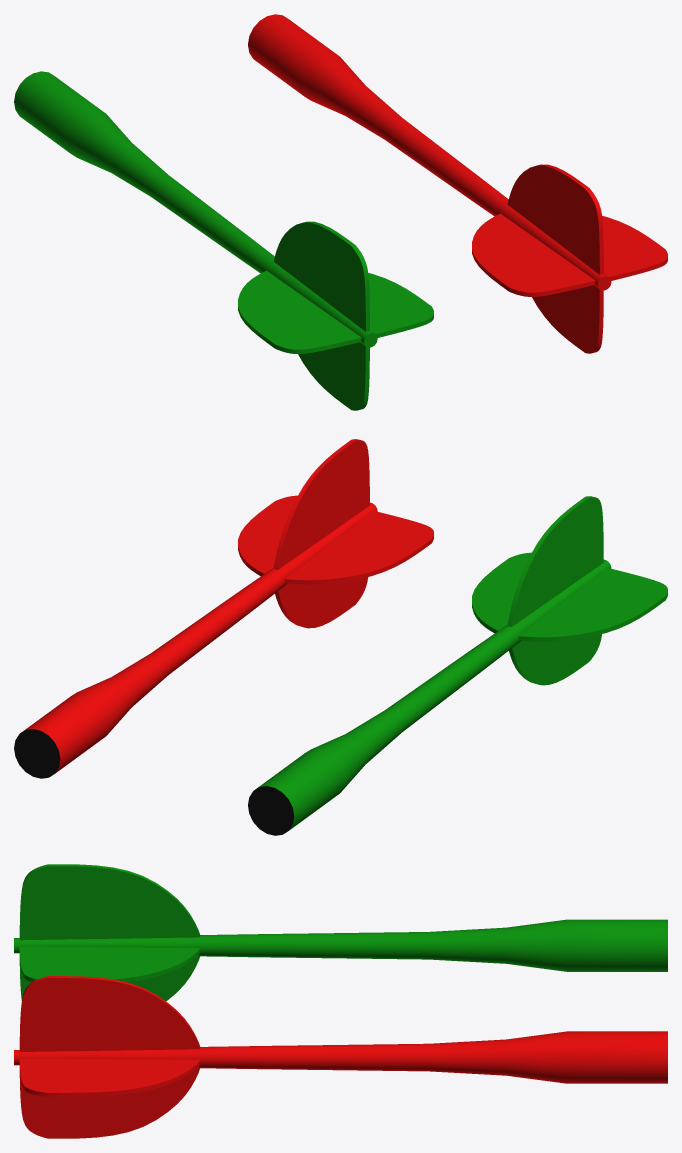
Rendered from Darts.FBX.
3 renders of one model, top to bottom at view 1: azimuth 30°, elevation 25°; view 2: azimuth 150°, elevation 25°; view 3: azimuth 270°, elevation 25°, orthographic. The views are drawn at different scales.
Parts seen in each view (by area): view 1: Dart 1, Dart 2; view 2: Dart 1, Dart 2; view 3: Dart 2, Dart 1.
Part boxes in pixels (bbox=[...]): Dart 1: bbox=[14, 71, 433, 410]; Dart 2: bbox=[248, 14, 667, 353]; Dart 1: bbox=[248, 496, 667, 835]; Dart 2: bbox=[14, 439, 433, 778]; Dart 2: bbox=[14, 976, 667, 1138]; Dart 1: bbox=[14, 864, 667, 1001].
Bounding box in the file's own units: 7.39 × 2.96 × 10.93.
1 material, 1 textured.
